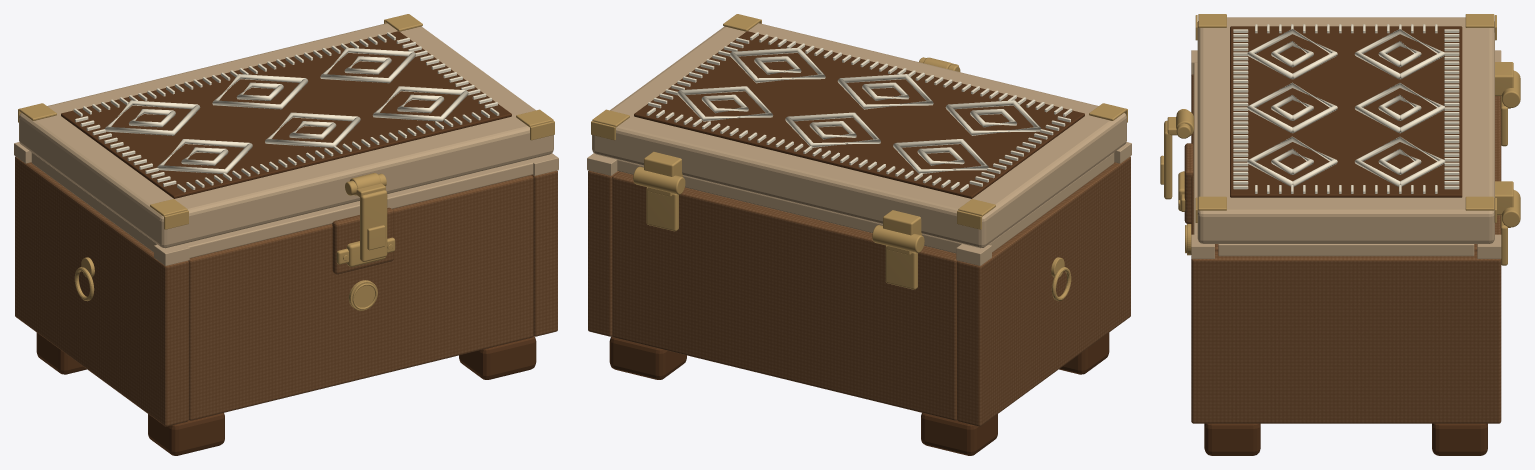
The model's file is cyprus.glb.
The picture shows the model from 3 angles, left to right: view 1: azimuth 30°, elevation 25°; view 2: azimuth 150°, elevation 25°; view 3: azimuth 270°, elevation 25°; orthographic projection. The views are drawn at different scales.
Parts seen in each view (by area): view 1: Linen body / front-rear, Lid / polished slab, Cutwork / inset carrier, Linen body / side, Binding seam / long, Linen body / side.001, Linen / foot, Linen / foot.002, Latch / lifting hasp, Linen / clasp seat, Binding seam / side, Cutwork diamond 2-1 / outer (+8 smaller); view 2: Linen body / front-rear.001, Lid / polished slab, Cutwork / inset carrier, Linen body / side, Linen body / side.001, Binding seam / long.001, Linen / foot.001, Linen / foot.003, Binding seam / side, Hinge / fixed mount, Hinge / fixed mount.001, Cutwork diamond 2-0 / outer (+11 smaller); view 3: Linen body / side.001, Cutwork / inset carrier, Lid / polished slab, Binding seam / side.001, Linen / foot.002, Linen / foot.003, Cutwork diamond 0-1 / outer, Cutwork diamond 0-0 / outer, Cutwork diamond 1-0 / outer, Cutwork diamond 1-1 / outer, Cutwork diamond 2-0 / outer, Cutwork diamond 2-1 / outer (+20 smaller).
Boxes of the visible parts, bbox=[...] form: Linen body / front-rear: bbox=[188, 175, 533, 420]; Lid / polished slab: bbox=[19, 23, 553, 248]; Cutwork / inset carrier: bbox=[61, 31, 511, 198]; Linen body / side: bbox=[15, 156, 188, 426]; Binding seam / long: bbox=[184, 159, 533, 258]; Linen body / side.001: bbox=[531, 170, 557, 336]; Linen / foot: bbox=[148, 413, 224, 455]; Linen / foot.002: bbox=[459, 336, 536, 379]; Latch / lifting hasp: bbox=[360, 190, 387, 261]; Linen / clasp seat: bbox=[332, 207, 393, 274]; Binding seam / side: bbox=[31, 152, 157, 252]; Cutwork diamond 2-1 / outer: bbox=[320, 47, 415, 83]; Linen body / front-rear.001: bbox=[612, 171, 957, 420]; Lid / polished slab: bbox=[592, 23, 1126, 248]; Cutwork / inset carrier: bbox=[634, 31, 1084, 198]; Linen body / side: bbox=[957, 156, 1130, 426]; Linen body / side.001: bbox=[588, 170, 619, 336]; Binding seam / long.001: bbox=[617, 159, 961, 253]; Linen / foot.001: bbox=[921, 413, 997, 455]; Linen / foot.003: bbox=[609, 336, 686, 379]; Binding seam / side: bbox=[988, 152, 1114, 252]; Hinge / fixed mount: bbox=[885, 245, 917, 289]; Hinge / fixed mount.001: bbox=[646, 187, 678, 231]; Cutwork diamond 2-0 / outer: bbox=[730, 47, 825, 83]; Linen body / side.001: bbox=[1191, 251, 1501, 423]; Cutwork / inset carrier: bbox=[1230, 26, 1462, 197]; Lid / polished slab: bbox=[1197, 17, 1494, 243]; Binding seam / side.001: bbox=[1218, 244, 1474, 256]; Linen / foot.002: bbox=[1204, 423, 1260, 455]; Linen / foot.003: bbox=[1432, 423, 1487, 455]; Cutwork diamond 0-1 / outer: bbox=[1354, 29, 1445, 79]; Cutwork diamond 0-0 / outer: bbox=[1247, 29, 1337, 79]; Cutwork diamond 1-0 / outer: bbox=[1247, 82, 1337, 133]; Cutwork diamond 1-1 / outer: bbox=[1355, 83, 1444, 133]; Cutwork diamond 2-0 / outer: bbox=[1247, 136, 1337, 186]; Cutwork diamond 2-1 / outer: bbox=[1354, 136, 1445, 186].
Bounding box in the file's own units: 3.79 × 2.31 × 2.88.
Materials: 5 (1 with a texture image).
